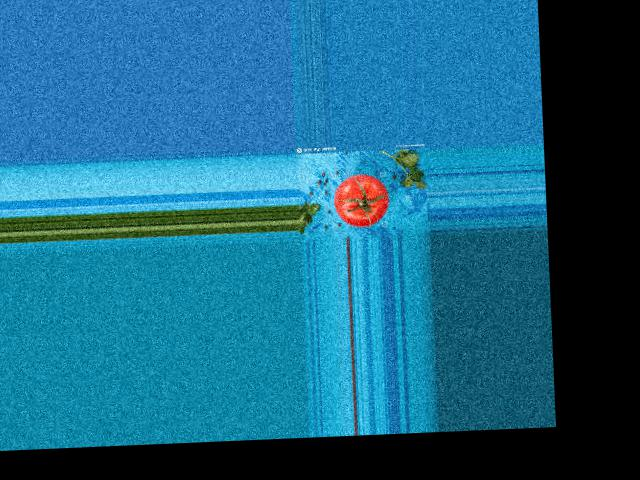tomato: (333, 173, 390, 227)
